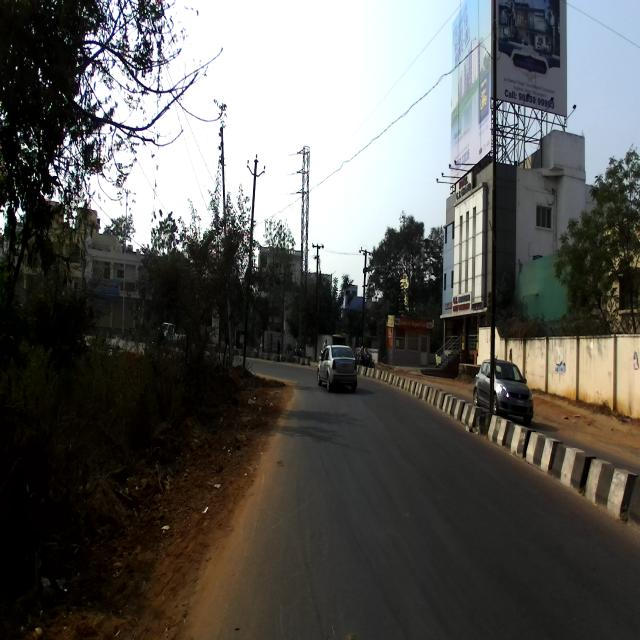car ahead at: (315, 340, 360, 400)
